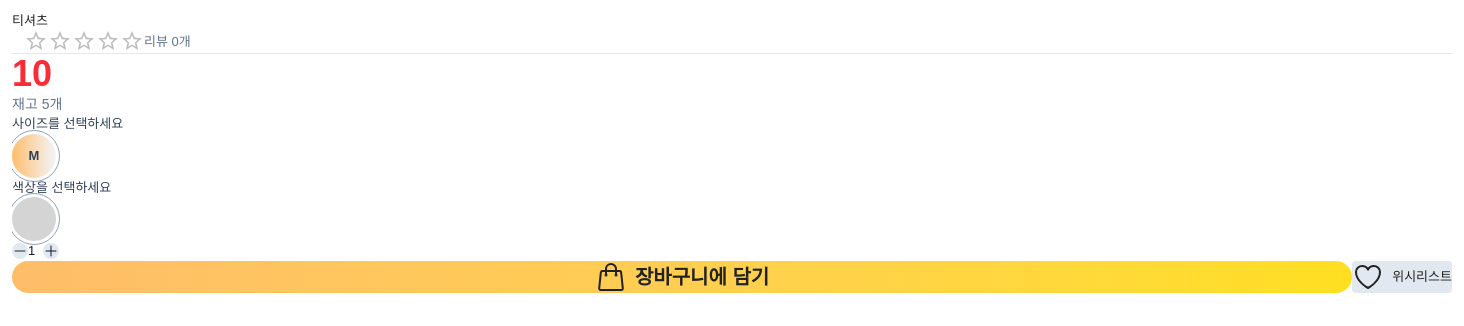
it: 상품 정보 — 서버 장바구니에 담기 › 서버가 거절하면 그 이유를 보여 주고 장바구니를 바꾸지 않는다
Click the button "장바구니에 담기": (682, 277) [12,261,1352,293]
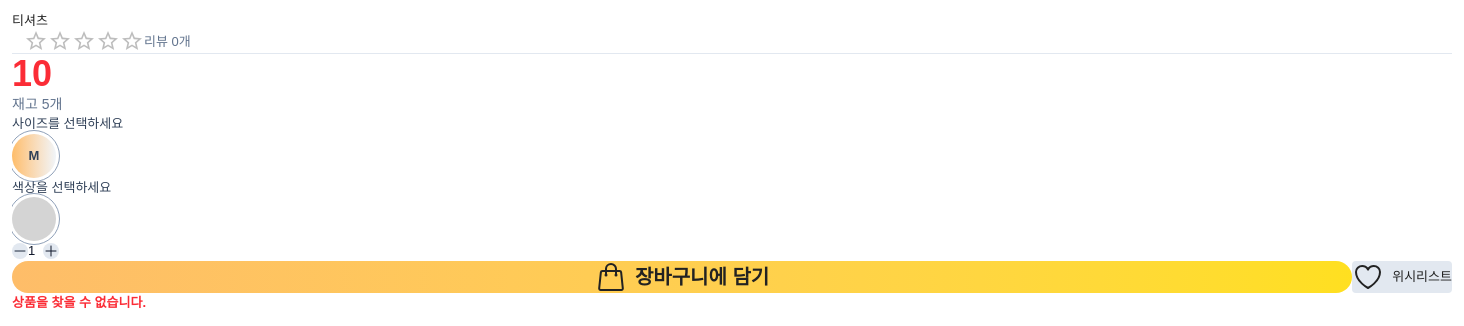
Check: the text "상품을 찾을 수 없습니다." is shown, box [12,295,146,310]
